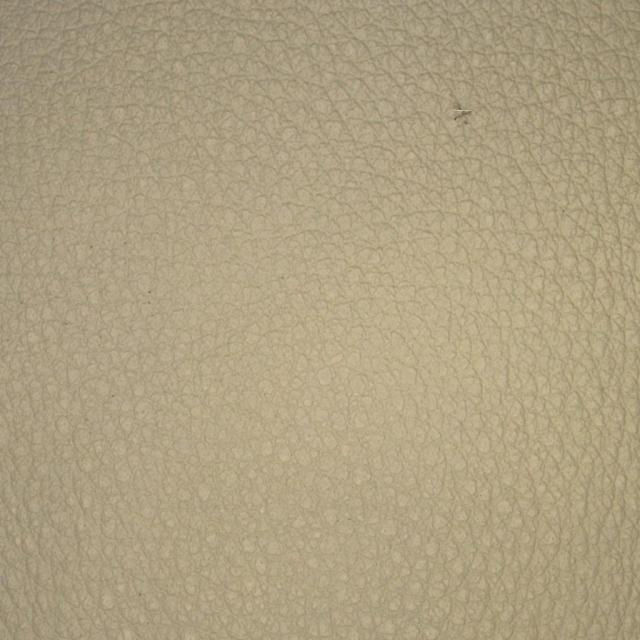Scratch: (398, 35, 517, 194)
